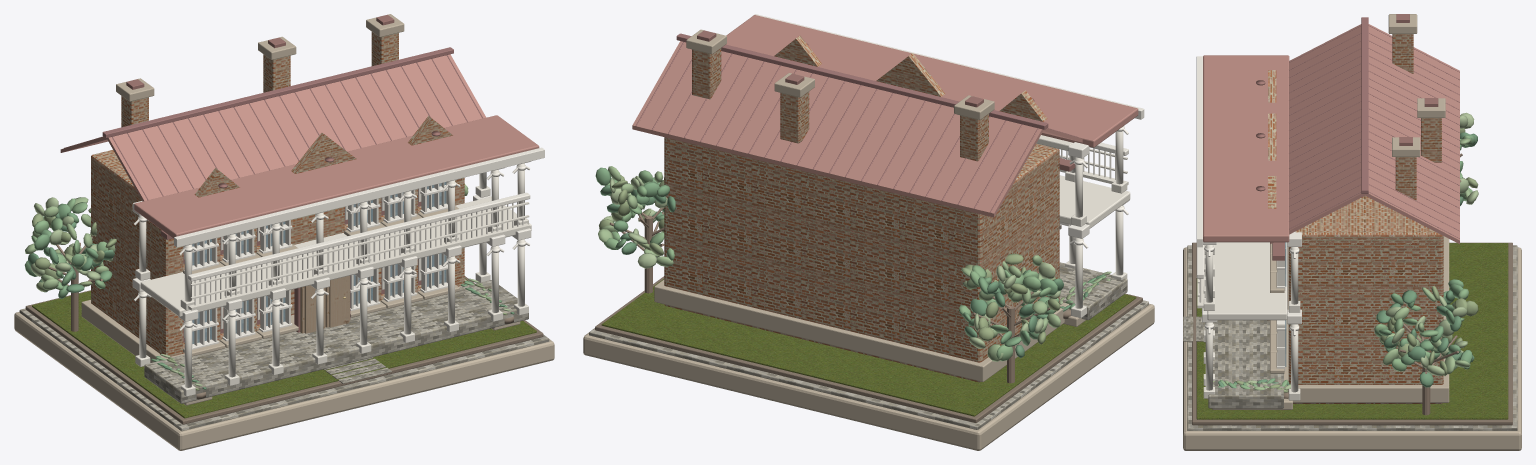
Rendered from mcgregor-museum.glb.
3 views of the same model, side by side, from view 1: azimuth 30°, elevation 25°; view 2: azimuth 150°, elevation 25°; view 3: azimuth 270°, elevation 25° (orthographic). The views are drawn at different scales.
Visible parts, largest first — view 1: MuseumRoof - Weathered copper red roof, MuseumDetails - Painted veranda trim, MuseumDetails - Trim edge highlights, Ground veranda deck, Main red brick Victorian building, MuseumLandscape - Sandstone plinth, Actual turf, MuseumRoof - Roof seam and ridge, MuseumRoof - Heritage brick - ambientCG CC0, MuseumLandscape - Pathway stone - ambientCG CC0, MuseumFacade - Painted veranda trim, MuseumFacade - Trim edge highlights (+17 smaller); view 2: Main red brick Victorian building, MuseumRoof - Weathered copper red roof, Actual turf, MuseumLandscape - Sandstone plinth, Main limestone footing, MuseumRoof - Heritage brick - ambientCG CC0, MuseumRoof - Roof seam and ridge, MuseumDetails - Painted veranda trim, MuseumLandscape - Pathway stone - ambientCG CC0, MuseumLandscape - Landscape soil, MuseumLandscape - Foliage tone 3, MuseumLandscape - Foliage tone 4 (+8 smaller); view 3: MuseumRoof - Weathered copper red roof, Main red brick Victorian building, Actual turf, MuseumLandscape - Sandstone plinth, MuseumDetails - Painted veranda trim, MuseumRoof - Roof seam and ridge, Ground veranda deck, MuseumLandscape - Pathway stone - ambientCG CC0, MuseumLandscape - Landscape soil, MuseumRoof - Heritage brick - ambientCG CC0, Main limestone footing, MuseumDetails - Trim edge highlights (+11 smaller).
Part boxes in pixels (<box>): MuseumRoof - Weathered copper red roof: <box>60,54,539,238</box>; MuseumDetails - Painted veranda trim: <box>135,163,531,396</box>; MuseumDetails - Trim edge highlights: <box>132,117,544,330</box>; Ground veranda deck: <box>144,280,528,403</box>; Main red brick Victorian building: <box>91,150,464,356</box>; MuseumLandscape - Sandstone plinth: <box>14,311,554,450</box>; Actual turf: <box>32,278,536,418</box>; MuseumRoof - Roof seam and ridge: <box>64,47,482,200</box>; MuseumRoof - Heritage brick - ambientCG CC0: <box>121,32,452,197</box>; MuseumLandscape - Pathway stone - ambientCG CC0: <box>19,308,549,431</box>; MuseumFacade - Painted veranda trim: <box>192,181,447,347</box>; MuseumFacade - Trim edge highlights: <box>192,184,447,349</box>; Main red brick Victorian building: <box>664,137,1059,382</box>; MuseumRoof - Weathered copper red roof: <box>632,15,1138,217</box>; Actual turf: <box>601,279,1136,416</box>; MuseumLandscape - Sandstone plinth: <box>583,303,1154,450</box>; Main limestone footing: <box>654,279,1069,381</box>; MuseumRoof - Heritage brick - ambientCG CC0: <box>692,35,1047,161</box>; MuseumRoof - Roof seam and ridge: <box>636,33,1078,212</box>; MuseumDetails - Painted veranda trim: <box>1059,126,1130,317</box>; MuseumLandscape - Pathway stone - ambientCG CC0: <box>589,300,1148,429</box>; MuseumLandscape - Landscape soil: <box>595,276,1142,422</box>; MuseumLandscape - Foliage tone 3: <box>598,166,1102,361</box>; MuseumLandscape - Foliage tone 4: <box>599,175,1113,344</box>; MuseumRoof - Weathered copper red roof: <box>1203,24,1459,243</box>; Main red brick Victorian building: <box>1288,196,1443,403</box>; Actual turf: <box>1196,243,1508,419</box>; MuseumLandscape - Sandstone plinth: <box>1183,247,1521,450</box>; MuseumDetails - Painted veranda trim: <box>1197,242,1300,400</box>; MuseumRoof - Roof seam and ridge: <box>1289,17,1459,238</box>; Ground veranda deck: <box>1208,320,1283,408</box>; MuseumLandscape - Pathway stone - ambientCG CC0: <box>1183,245,1517,430</box>; MuseumLandscape - Landscape soil: <box>1192,242,1512,425</box>; MuseumRoof - Heritage brick - ambientCG CC0: <box>1268,34,1441,208</box>; Main limestone footing: <box>1284,236,1449,402</box>; MuseumDetails - Trim edge highlights: <box>1196,56,1301,336</box>.
Bounding box in the file's own units: 4.81 × 2.96 × 3.22.
Materials: 24 (4 with a texture image).
